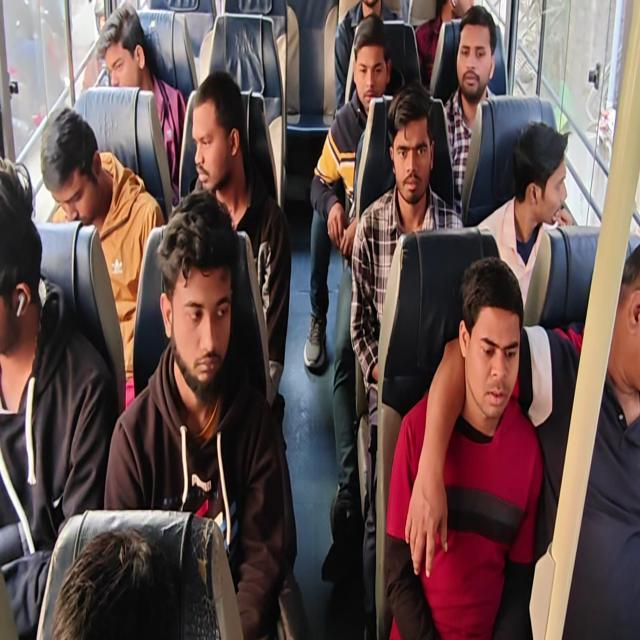person: (1, 1, 638, 638), (103, 189, 287, 638), (349, 81, 465, 637), (384, 256, 544, 638), (0, 156, 117, 638), (40, 106, 166, 410), (185, 69, 292, 415), (304, 13, 394, 371), (95, 2, 187, 206), (475, 120, 572, 313), (50, 525, 159, 638), (442, 5, 497, 215), (333, 0, 401, 112), (414, 0, 474, 88)
